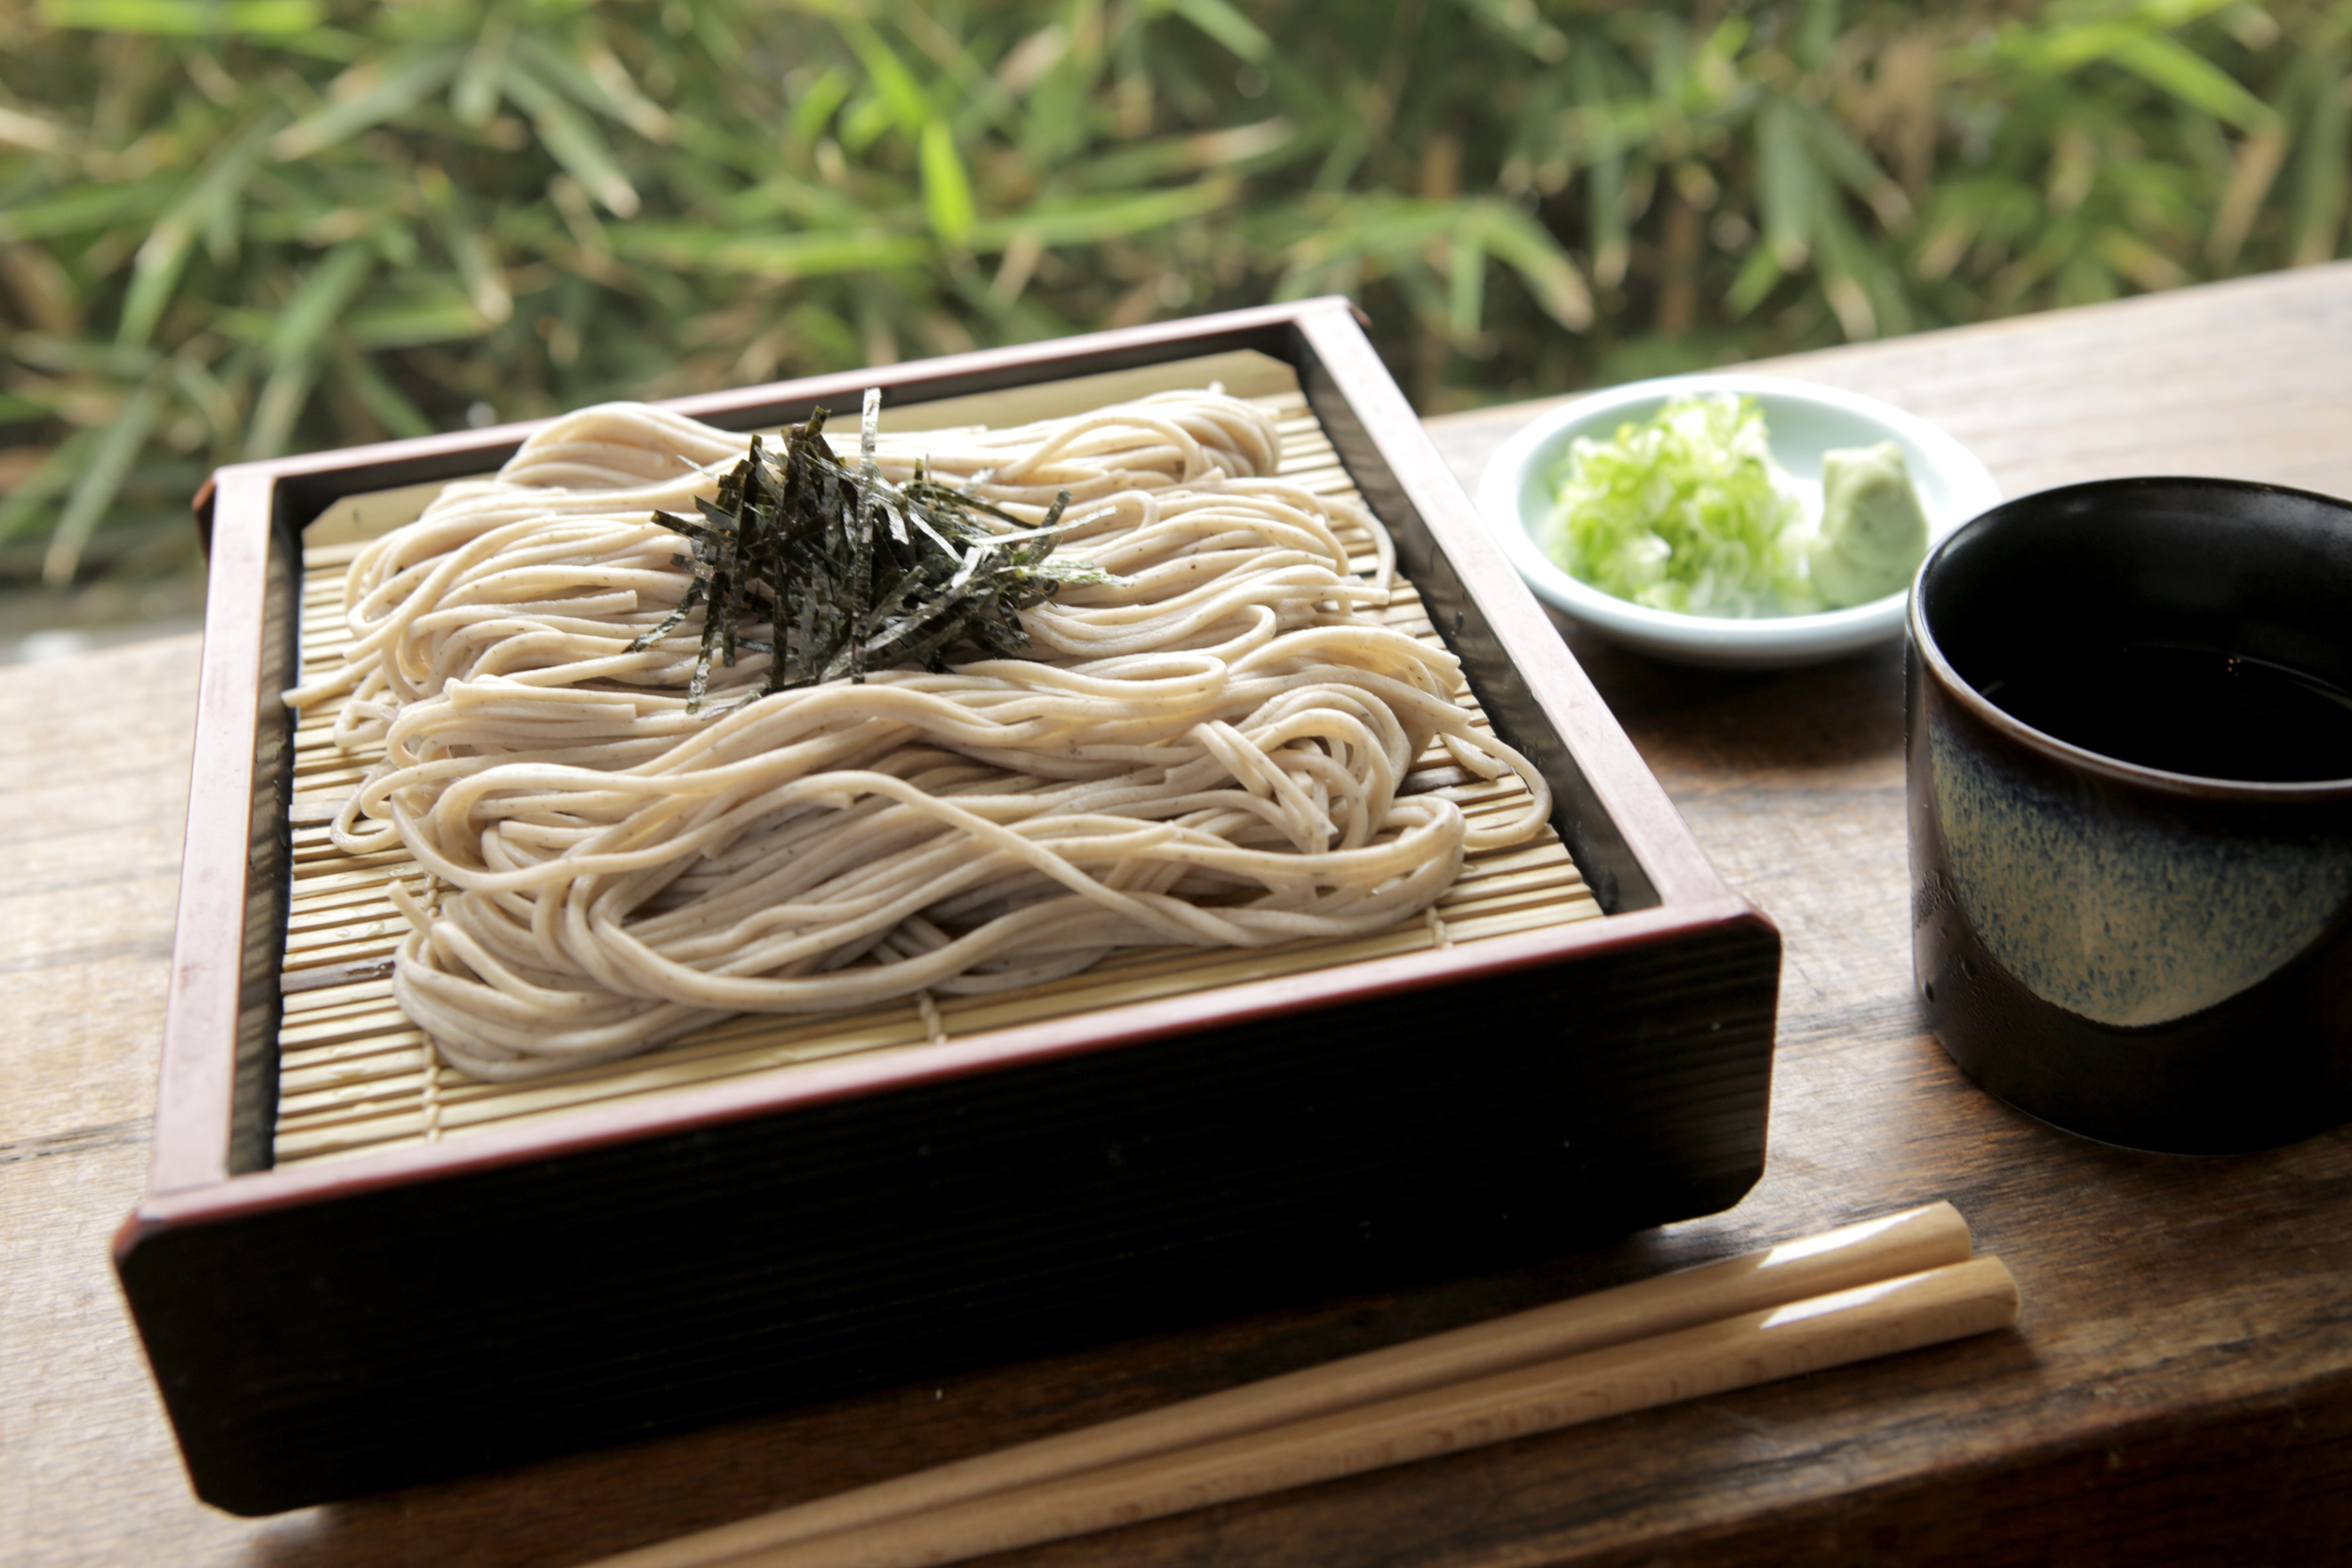Soba: (317, 397, 1605, 1001)
